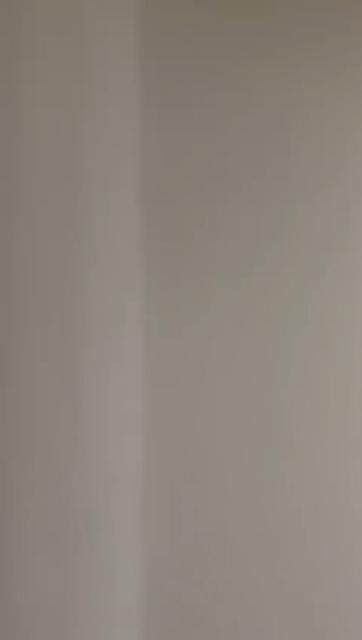wall: (4, 0, 362, 640)
